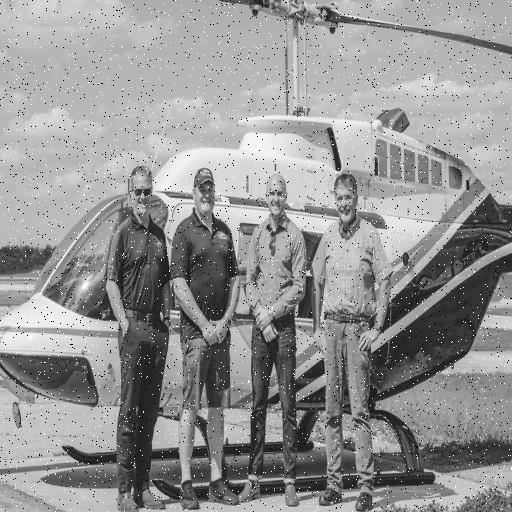helicopter: (1, 26, 512, 464)
